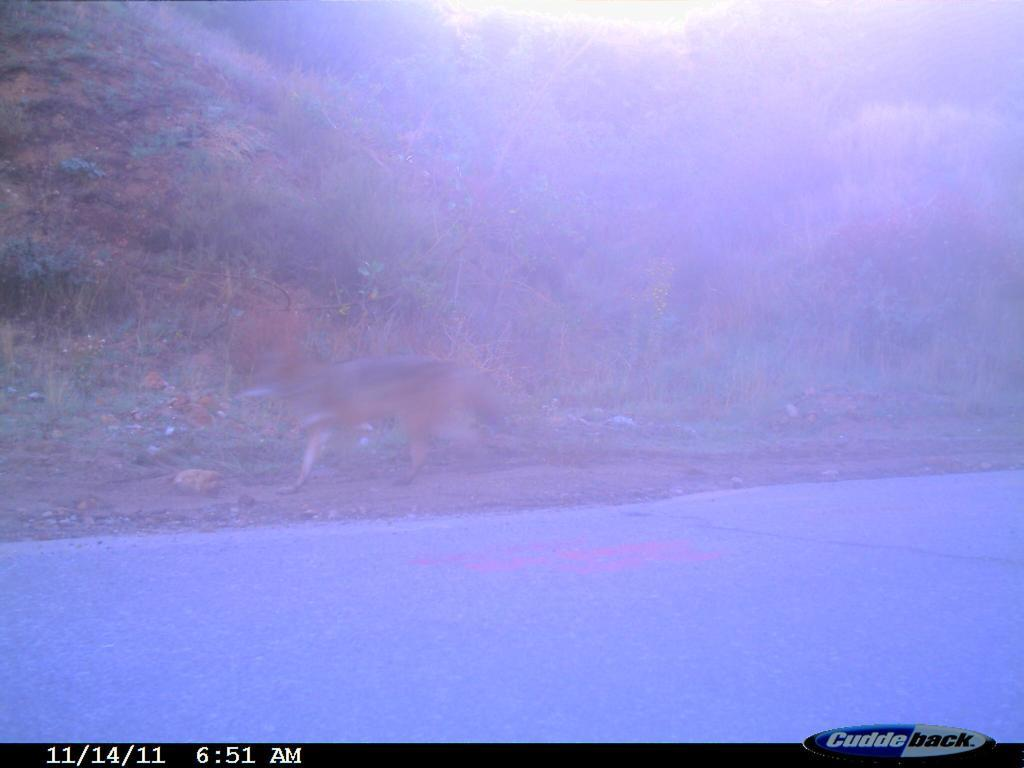coyote: (219, 333, 521, 495)
